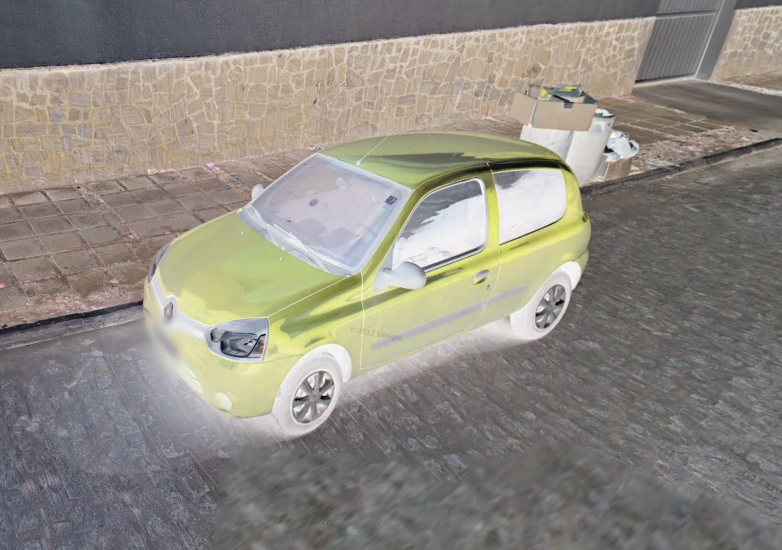car: (139, 128, 594, 441)
